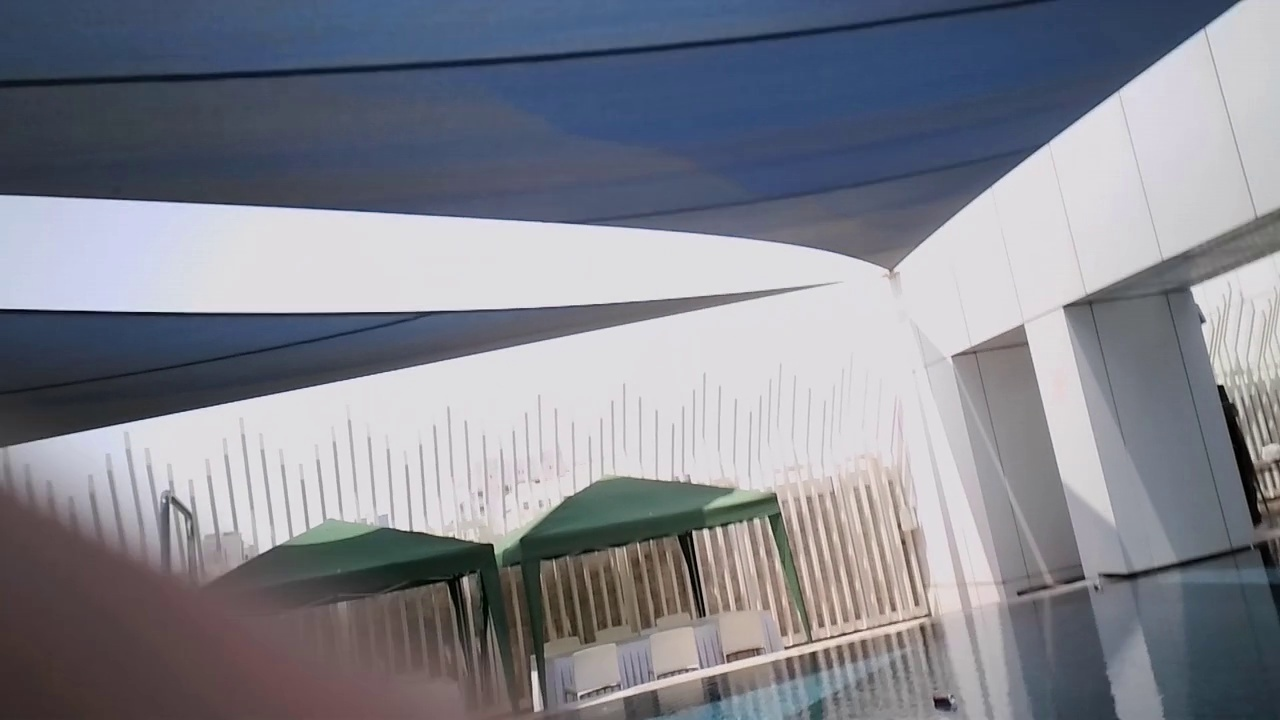debris: (928, 686, 958, 711), (1088, 576, 1111, 595)
